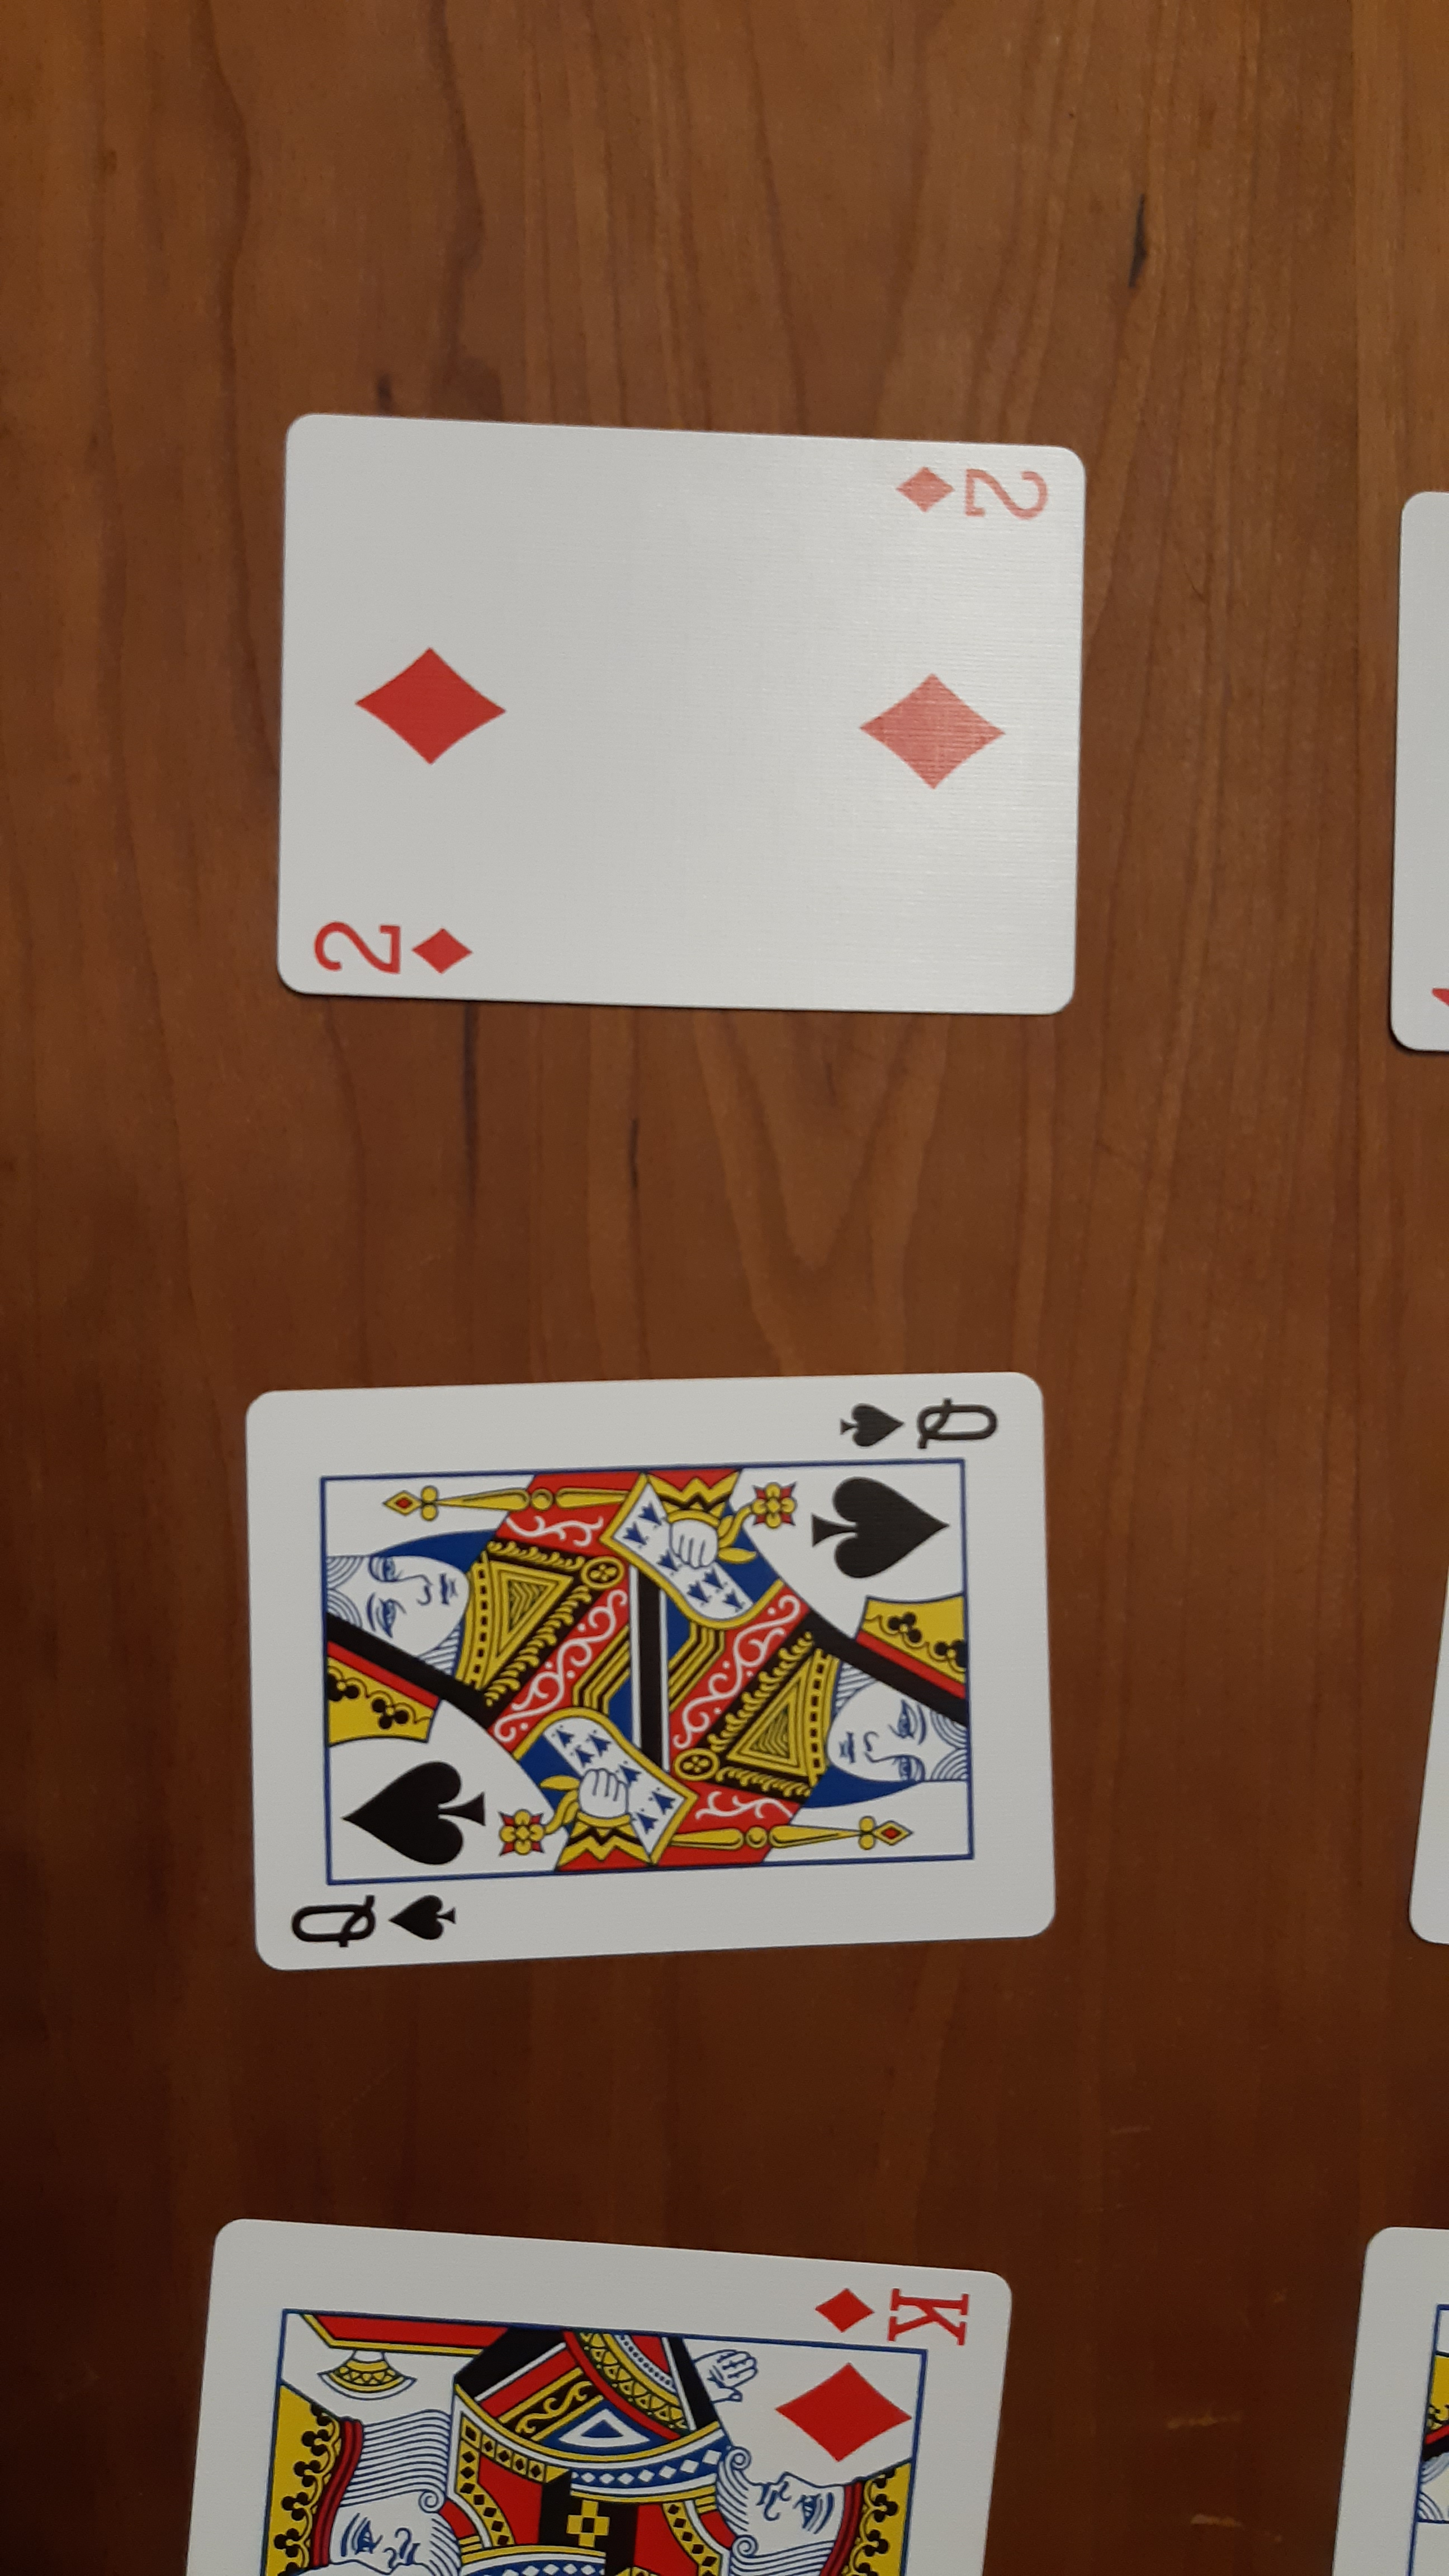Black_Spade_Queen: (272, 1884, 472, 1953), (817, 1391, 1003, 1454)
Red_Diamond_2: (295, 902, 485, 994), (874, 449, 1060, 529)
Red_Diamond_King: (810, 2277, 977, 2353)
